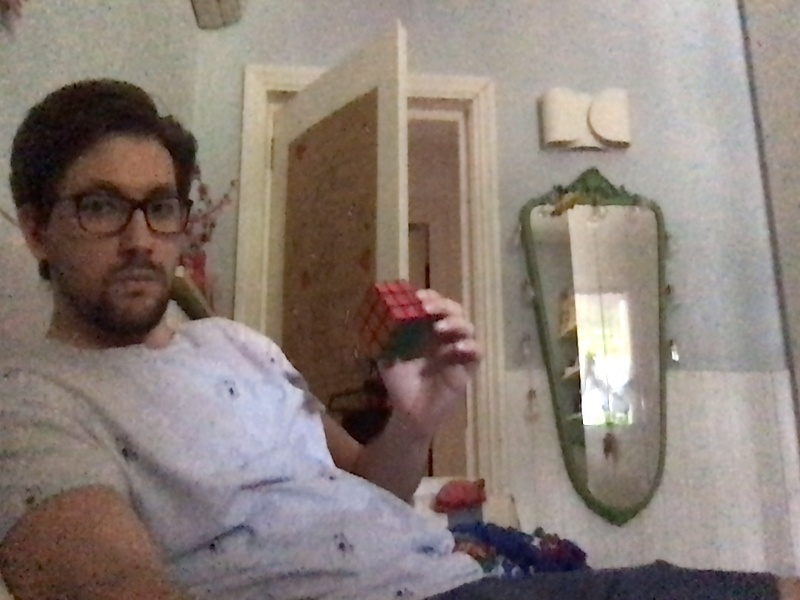rubik: (351, 278, 430, 363)
